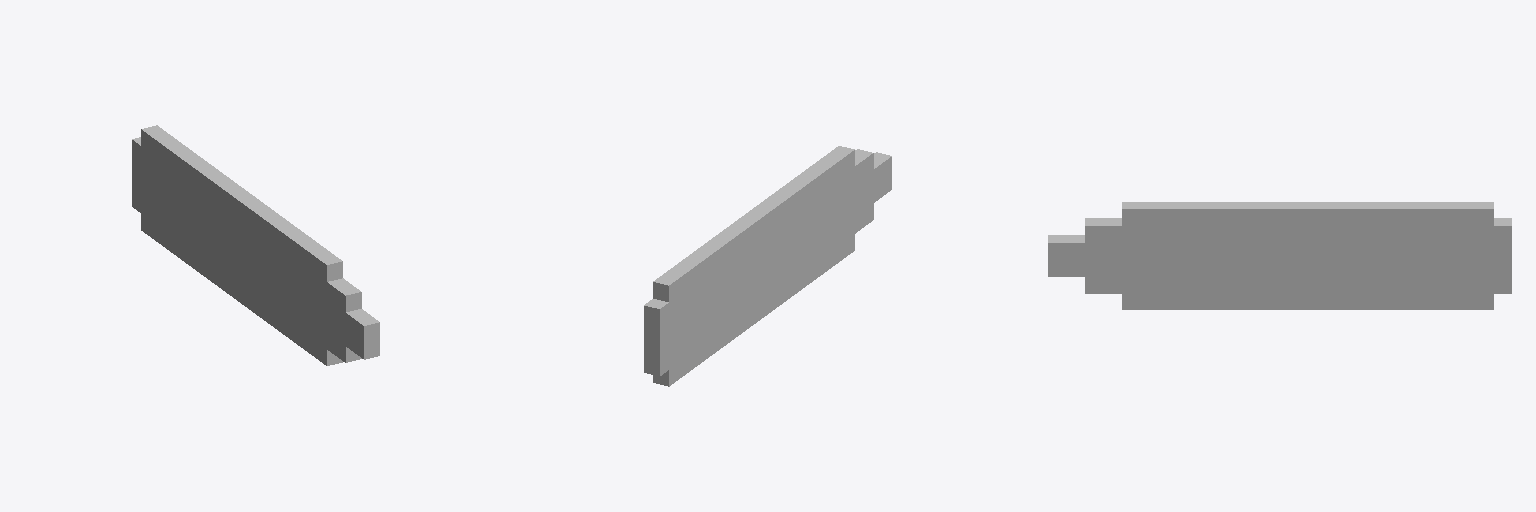
Rendered from sign.obj.
3 renders of one model, left to right at view 1: azimuth 30°, elevation 25°; view 2: azimuth 150°, elevation 25°; view 3: azimuth 270°, elevation 25°, orthographic.
Visible parts, largest first — view 1: Plane.001; view 2: Plane.001; view 3: Plane.001.
Part boxes in pixels (x1,y1,x2,y2): Plane.001: (132, 125, 379, 365); Plane.001: (644, 146, 891, 386); Plane.001: (1048, 202, 1511, 309).
Bounding box in the file's own units: 0.0625 × 0.375 × 1.56.